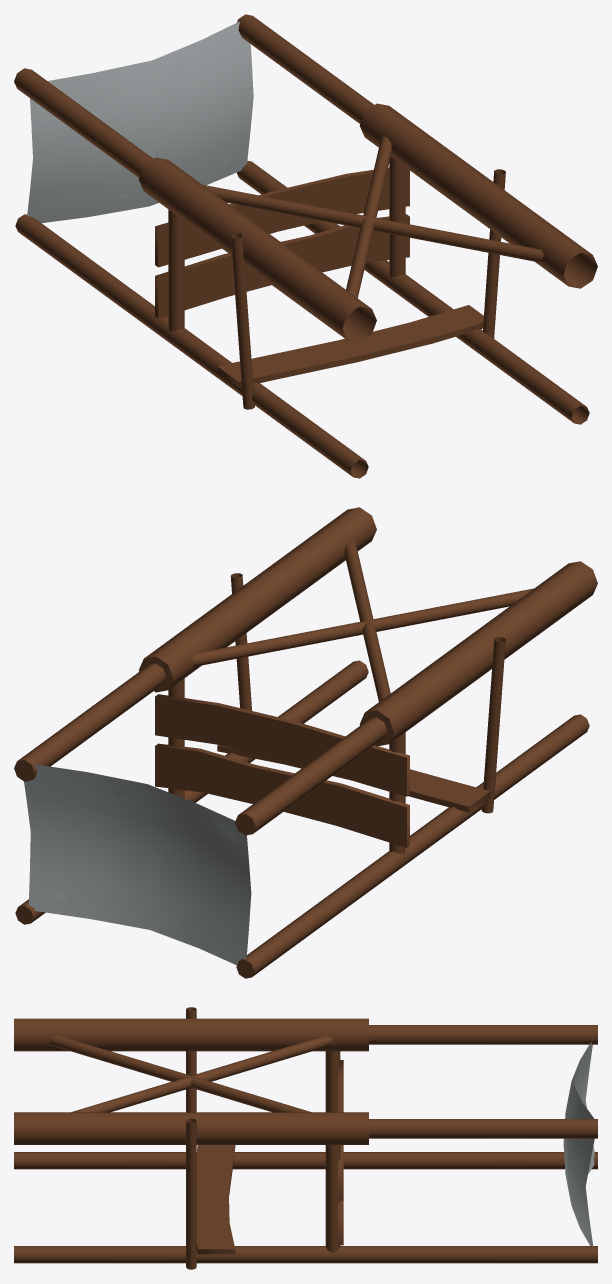
The model's file is Structs_Tall_Roof.fbx.
The picture shows the model from 3 angles, top to bottom: view 1: azimuth 30°, elevation 25°; view 2: azimuth 150°, elevation 25°; view 3: azimuth 270°, elevation 25°; orthographic projection. The views are drawn at different scales.
Visible parts, largest first — view 1: Plane.008; view 2: Plane.008; view 3: Plane.008.
Part boxes in pixels (x1,y1,x2,y2): Plane.008: (14,14,597,478); Plane.008: (14,507,597,978); Plane.008: (14,1007,597,1269).
Size of the model in its own units: 496 by 303 by 1051.
